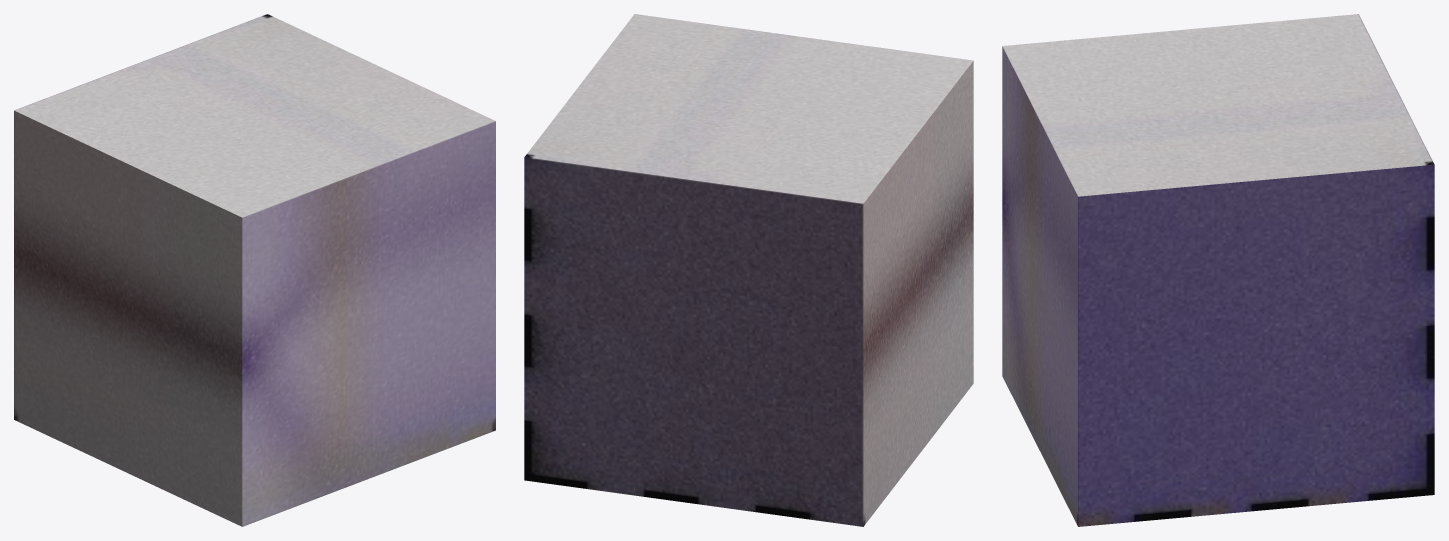
Rendered from threed_cube.glb.
3 views of the same model, side by side, from view 1: azimuth 30°, elevation 25°; view 2: azimuth 150°, elevation 25°; view 3: azimuth 270°, elevation 25° (orthographic). The views are drawn at different scales.
Visible parts, largest first — view 1: threed_cube; view 2: threed_cube; view 3: threed_cube.
Boxes of the visible parts, x1=… form: threed_cube: x1=14, y1=14, x2=495, y2=526; threed_cube: x1=524, y1=14, x2=973, y2=526; threed_cube: x1=1002, y1=14, x2=1434, y2=526.
Size of the model in its own units: 0.9488 by 0.8 by 0.9488.
1 material, 1 textured.
